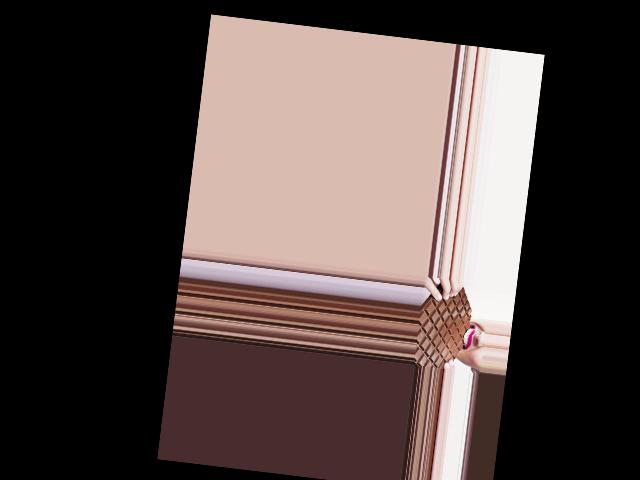chocolate: (413, 275, 477, 371)
